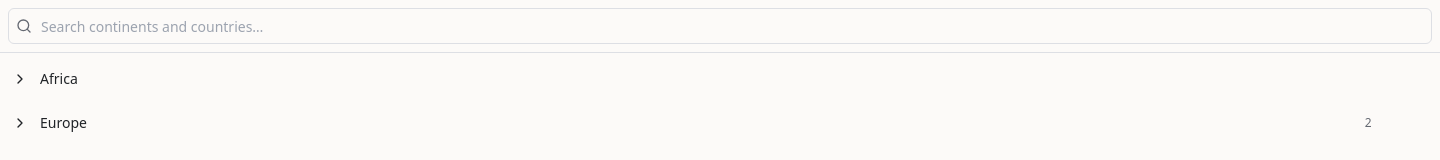
Test: <CatalogTree /> › shows an installed badge instead of Install when the entry is already installed
In the search field named "filter catalogue": (720, 26) x1=8 y1=8 x2=1432 y2=44, type "romania"
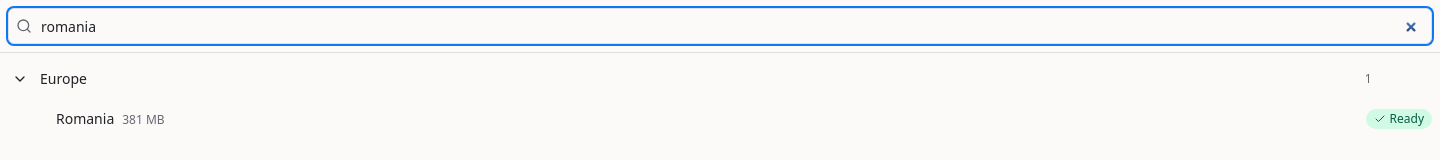
Expected: the list item "Romania381 MB Ready" is shown, x1=56 y1=109 x2=1432 y2=129
Expected: the element named "already ready" is shown, x1=1366 y1=109 x2=1432 y2=129
